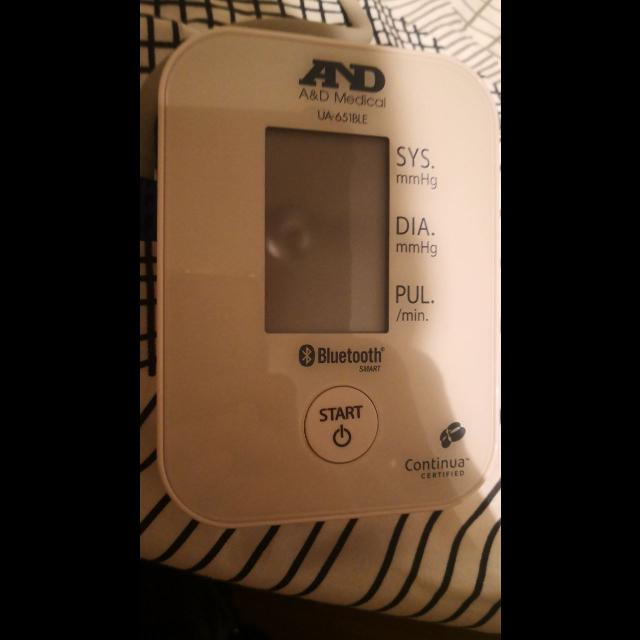Blood-Pressure-Monitor: (156, 28, 500, 528)
